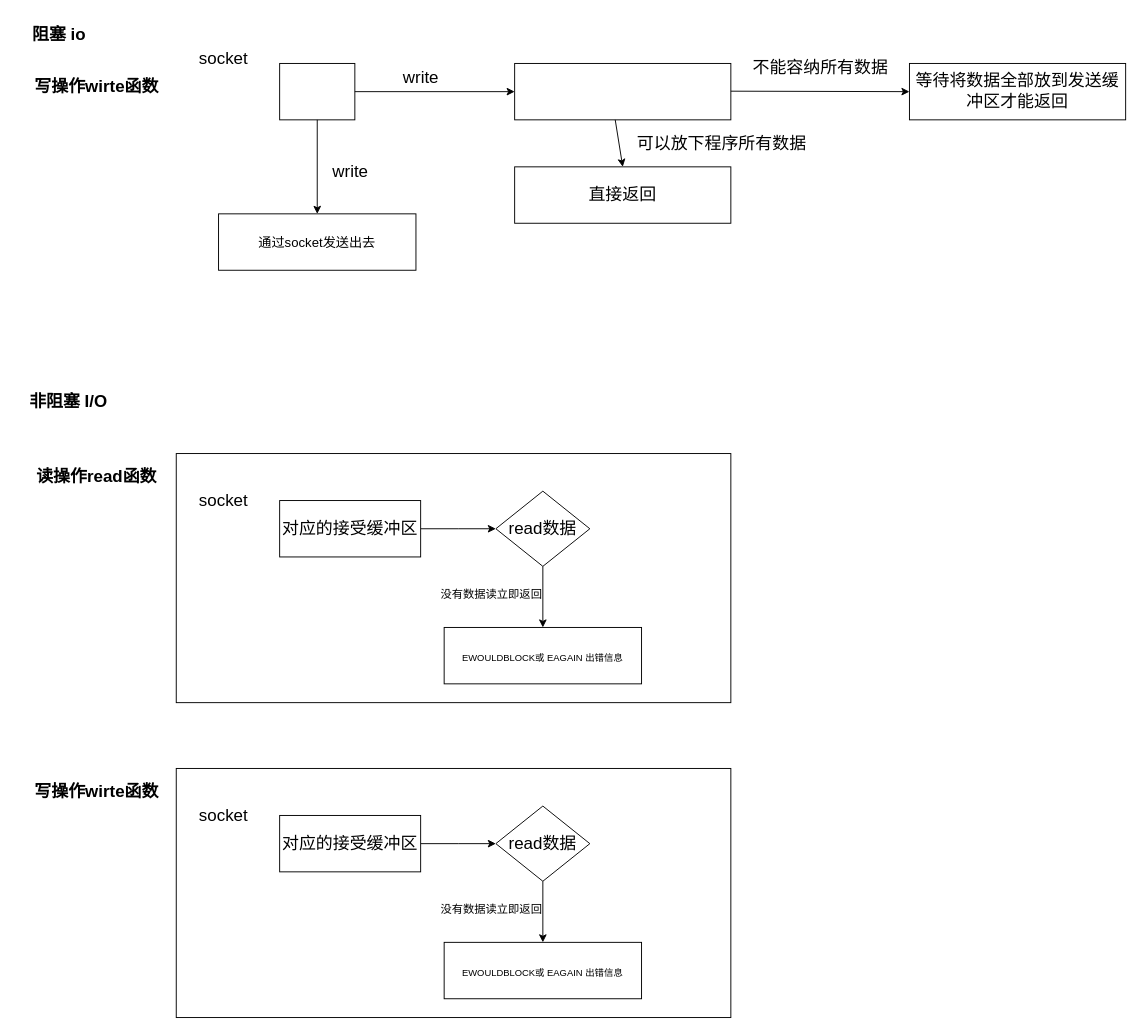
This 1142x1034 diagram has some shape labels left out. Each missing label, with the centre of its shape:
"应用程序" goes at (x=317, y=91).
"操作系统内核的发送缓冲区" goes at (x=622, y=91).
